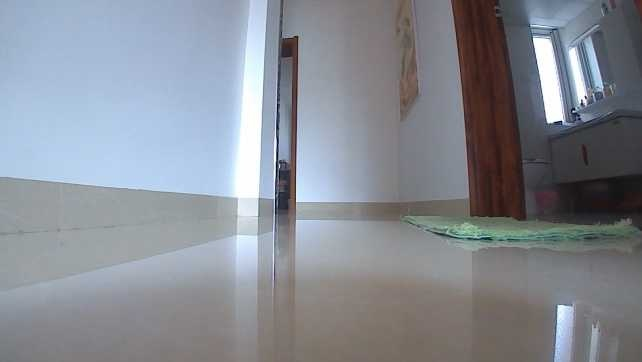blanket: (402, 214, 637, 240)
toilet: (515, 157, 560, 217)
washstand: (546, 106, 641, 186)
